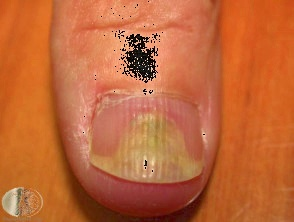Nail_psoriasis: (86, 109, 205, 183), (86, 83, 162, 124)
